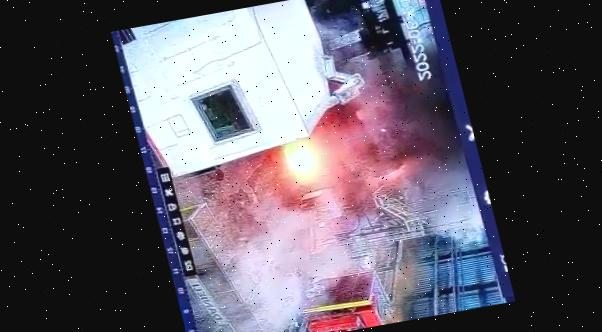fire: (217, 87, 435, 260)
